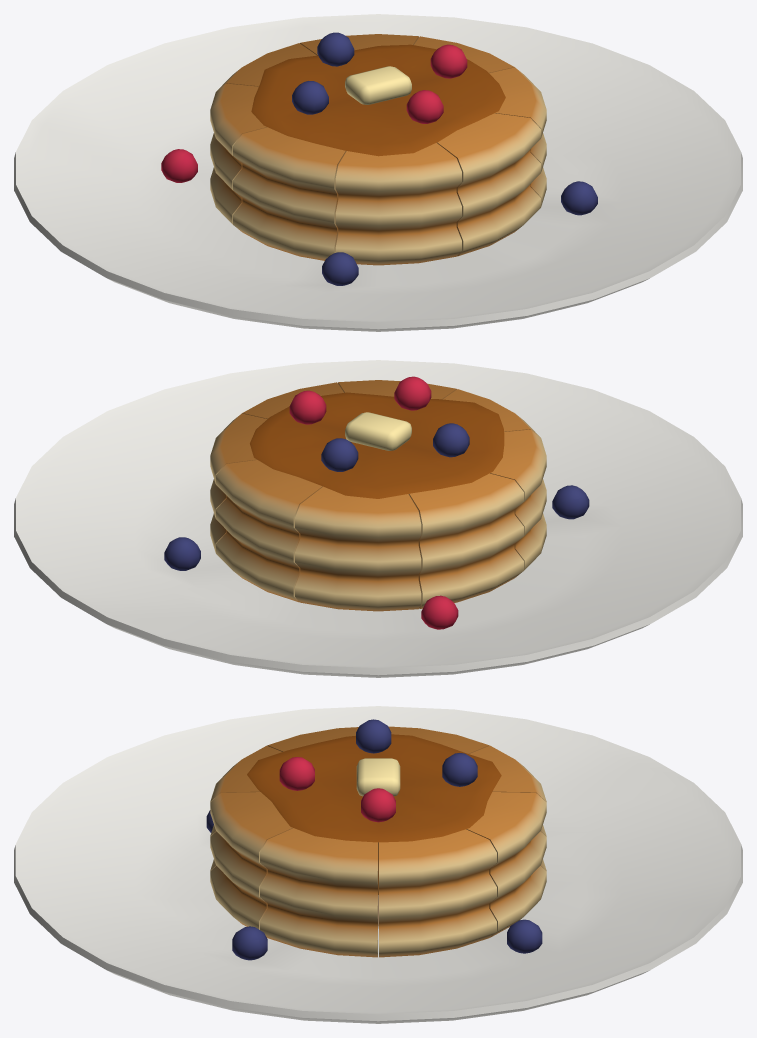
The model's file is dish-ricotta-pancakes-lod1.glb.
The picture shows the model from 3 angles, top to bottom: view 1: azimuth 30°, elevation 25°; view 2: azimuth 150°, elevation 25°; view 3: azimuth 270°, elevation 25°; orthographic projection.
Parts seen in each view (by area): view 1: ricotta-pancakes.lod1__table porcelain, ricotta-pancakes.lod1__food, ricotta-pancakes.lod1__food glaze; view 2: ricotta-pancakes.lod1__table porcelain, ricotta-pancakes.lod1__food, ricotta-pancakes.lod1__food glaze; view 3: ricotta-pancakes.lod1__table porcelain, ricotta-pancakes.lod1__food, ricotta-pancakes.lod1__food glaze.
Part boxes in pixels (left/top/right/bottom): ricotta-pancakes.lod1__table porcelain: left=14, top=14, right=742, bottom=331; ricotta-pancakes.lod1__food: left=210, top=34, right=546, bottom=265; ricotta-pancakes.lod1__food glaze: left=161, top=32, right=597, bottom=285; ricotta-pancakes.lod1__table porcelain: left=14, top=360, right=742, bottom=677; ricotta-pancakes.lod1__food: left=210, top=380, right=546, bottom=611; ricotta-pancakes.lod1__food glaze: left=164, top=376, right=589, bottom=629; ricotta-pancakes.lod1__table porcelain: left=14, top=706, right=742, bottom=1023; ricotta-pancakes.lod1__food: left=210, top=726, right=546, bottom=957; ricotta-pancakes.lod1__food glaze: left=206, top=719, right=542, bottom=960.
Size of the model in its own units: 0.27 by 0.066 by 0.2685.
